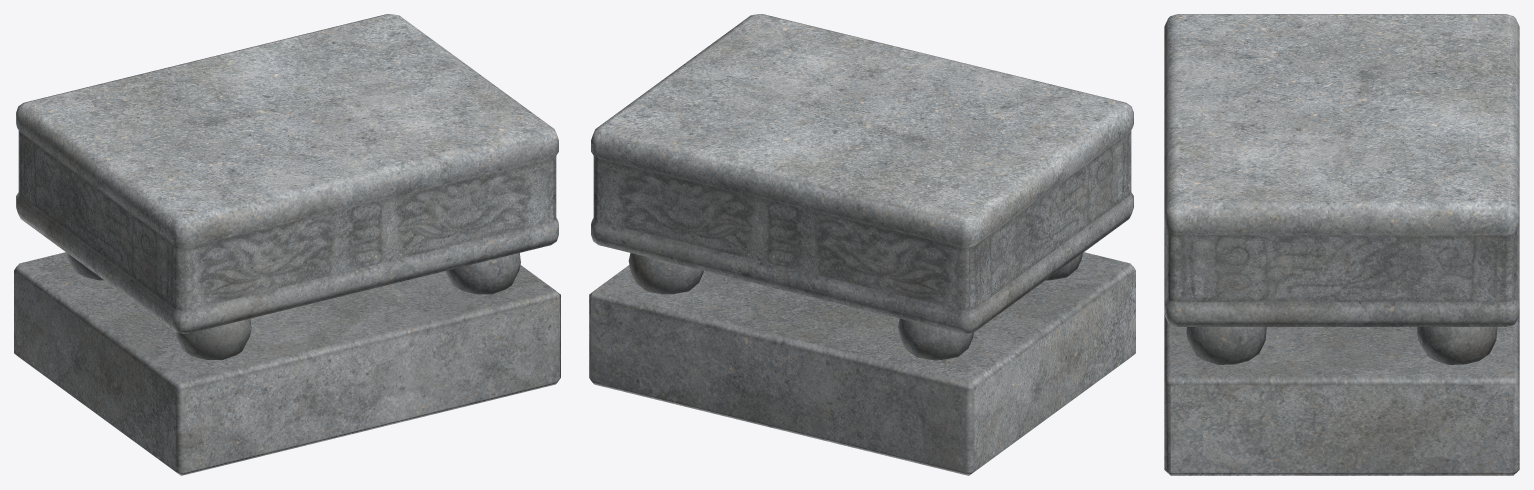
The model's file is SM_StoneStatue01F.fbx.
3 renders of one model, left to right at view 1: azimuth 30°, elevation 25°; view 2: azimuth 150°, elevation 25°; view 3: azimuth 270°, elevation 25°, orthographic. The views are drawn at different scales.
Parts seen in each view (by area): view 1: SM_StoneStatue01F; view 2: SM_StoneStatue01F; view 3: SM_StoneStatue01F.
Part boxes in pixels (x1,y1,x2,y2): SM_StoneStatue01F: (14, 14, 560, 475); SM_StoneStatue01F: (589, 14, 1135, 475); SM_StoneStatue01F: (1164, 14, 1519, 475).
Size of the model in its own units: 129 by 97.42 by 82.
1 material, 1 textured.
